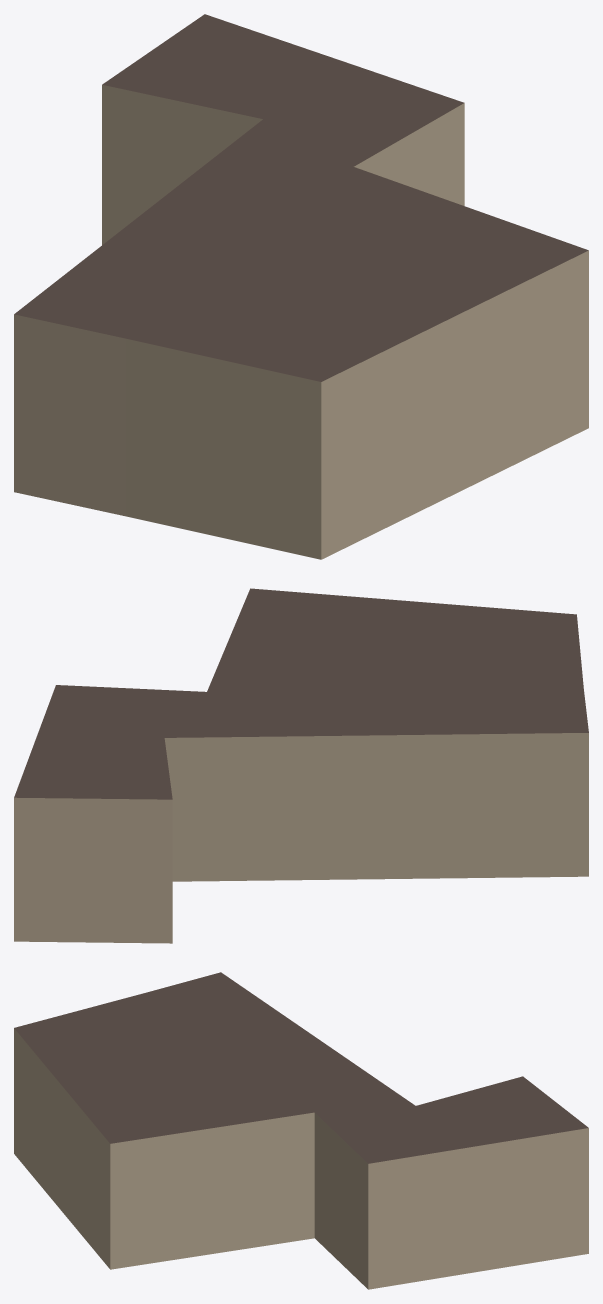
3 renders of one model, top to bottom at view 1: azimuth 30°, elevation 25°; view 2: azimuth 150°, elevation 25°; view 3: azimuth 270°, elevation 25°, orthographic. The views are drawn at different scales.
Visible parts, largest first — view 1: HP-w1515076980; view 2: HP-w1515076980; view 3: HP-w1515076980.
Boxes of the visible parts, <box> form: HP-w1515076980: <box>14,14,588,559</box>; HP-w1515076980: <box>14,588,588,943</box>; HP-w1515076980: <box>14,972,588,1289</box>.
Bounding box in the file's own units: 29.39 × 9 × 37.26.
